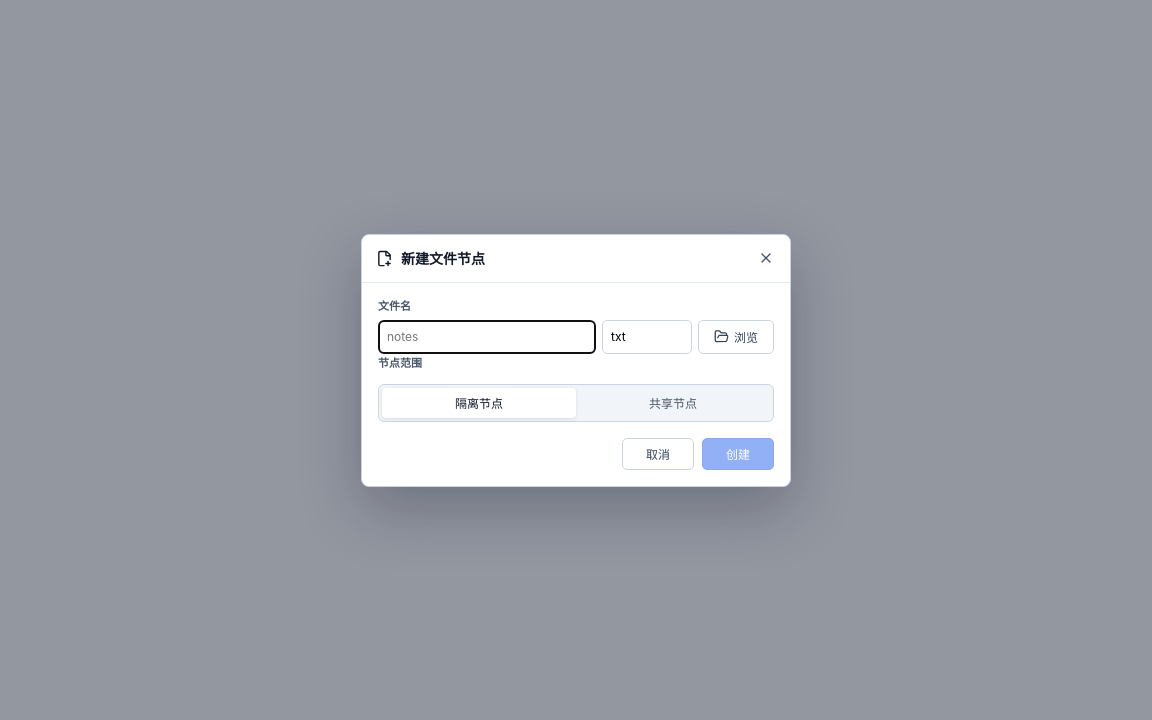
Test case: CreateFileDialog › 选择凭据失败后要求重新浏览并释放旧凭据
Click the button "浏览". click: (736, 336)
box: [698,320,774,354]
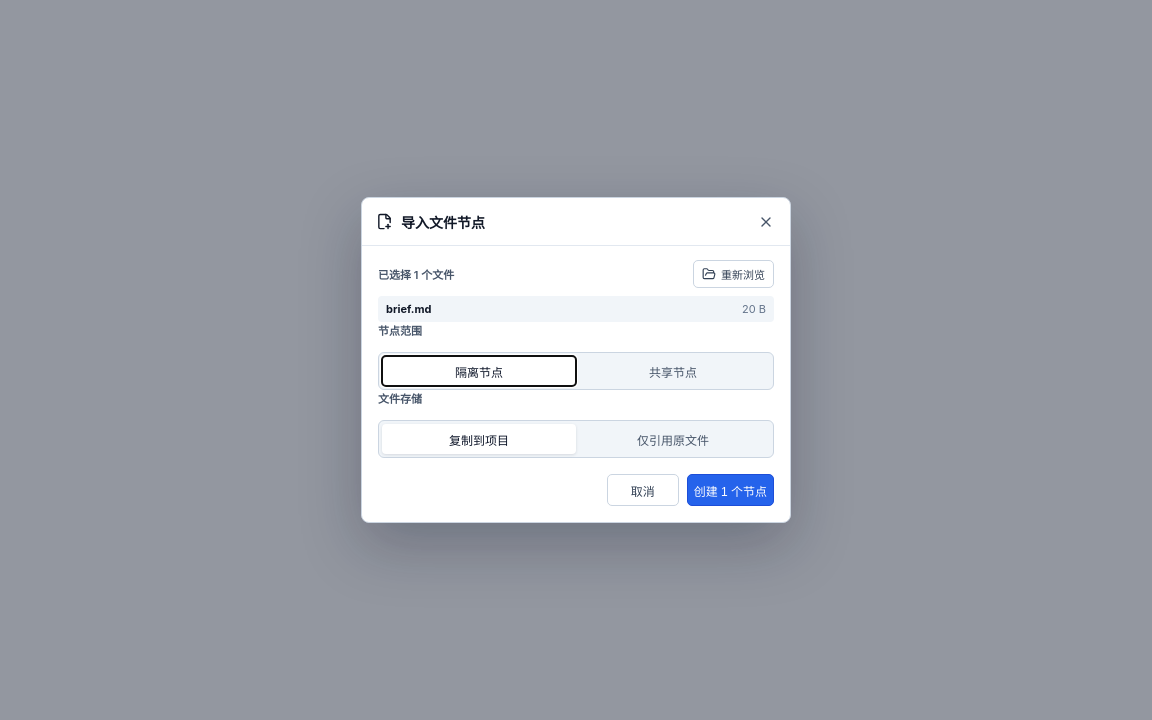
Click the button "创建 1 个节点". click: (730, 490)
box: [687,474,774,506]
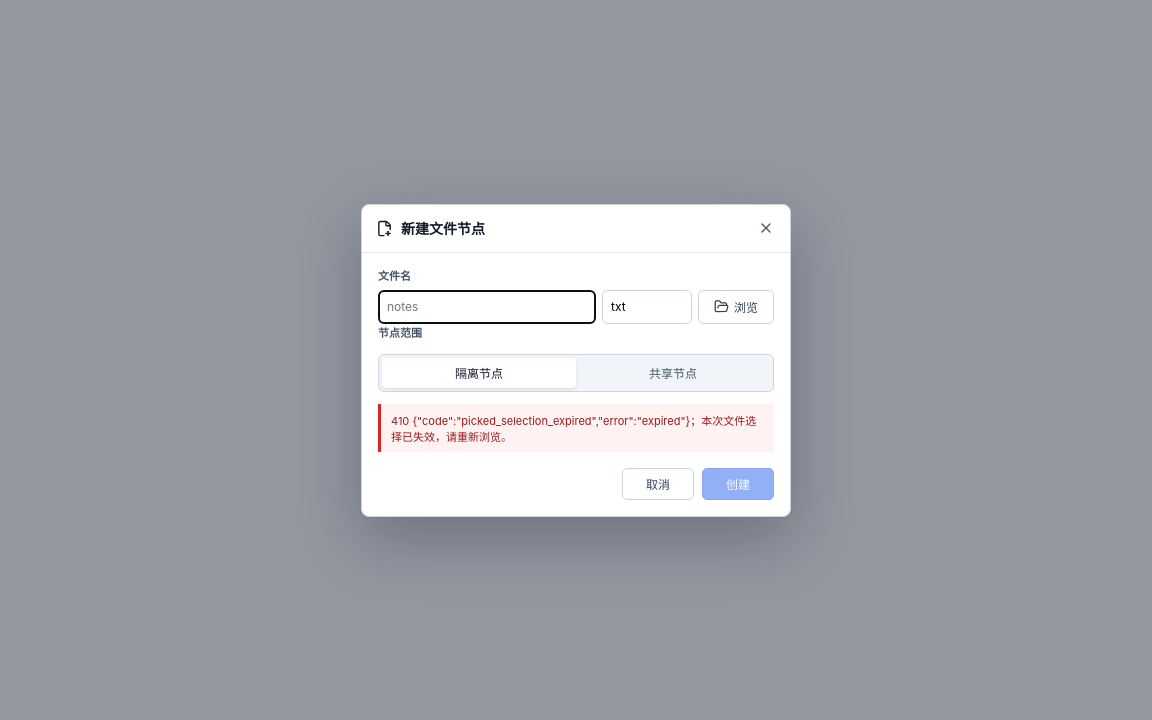
Result: the message shows "请重新浏览" at [391,414,756,444]
Result: the text "brief.md" is gone
Result: the button "创建" is disabled at [702,468,774,500]
